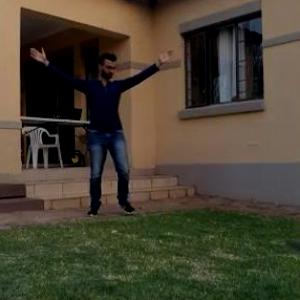takeoff: (28, 43, 178, 213)
